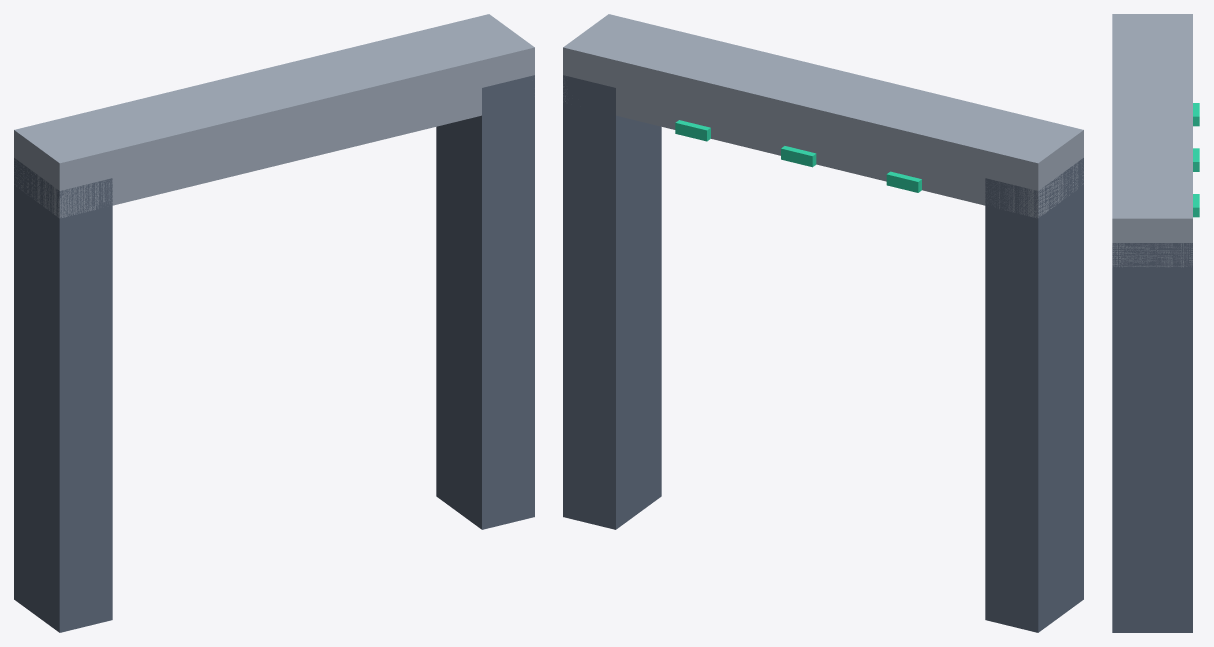
File: gate.glb
The picture shows the model from 3 angles, left to right: view 1: azimuth 30°, elevation 25°; view 2: azimuth 150°, elevation 25°; view 3: azimuth 270°, elevation 25°; orthographic projection. The views are drawn at different scales.
Parts seen in each view (by area): view 1: Pylon (×2), Crossbar; view 2: Pylon (×2), Crossbar; view 3: Pylon, Crossbar, Lamp (×3).
Part boxes in pixels (bbox=[...]): Pylon (×2): bbox=[14, 75, 534, 632]; Crossbar: bbox=[14, 14, 534, 218]; Pylon (×2): bbox=[563, 75, 1083, 632]; Crossbar: bbox=[563, 14, 1083, 218]; Pylon: bbox=[1112, 243, 1192, 632]; Crossbar: bbox=[1112, 14, 1192, 267]; Lamp (×3): bbox=[1193, 103, 1199, 217].
Bounding box in the file's own units: 9 × 8.5 × 1.62.
